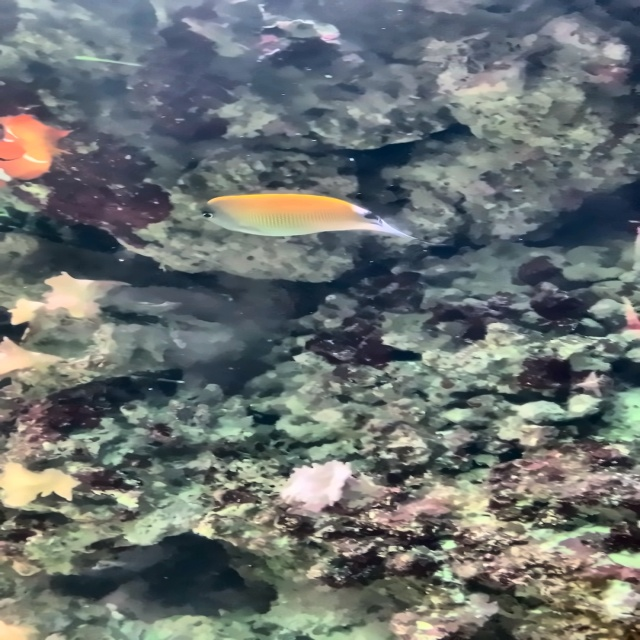fish: (199, 194, 426, 241), (2, 114, 68, 182)
